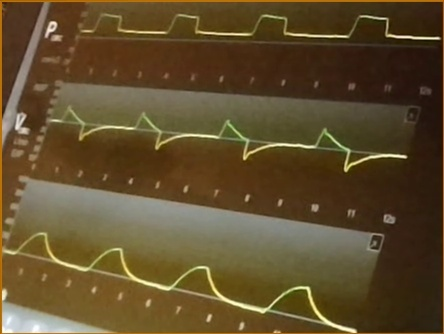Normal Flow: (52, 95, 404, 178)
Normal Volume: (5, 231, 352, 330)
